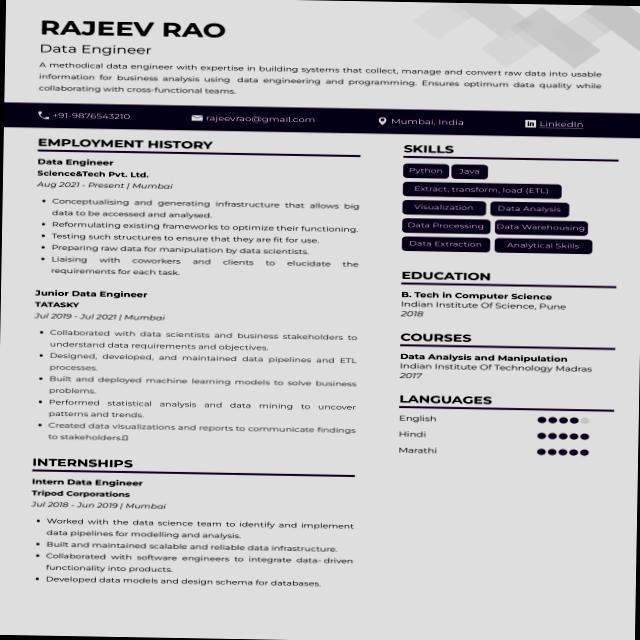contact: (3, 100, 640, 137)
education: (396, 269, 623, 387)
experience: (18, 130, 387, 450), (14, 454, 370, 595)
header: (31, 18, 226, 56)
languages: (392, 390, 634, 469)
skills: (393, 139, 628, 271)
summary: (31, 62, 598, 104)
